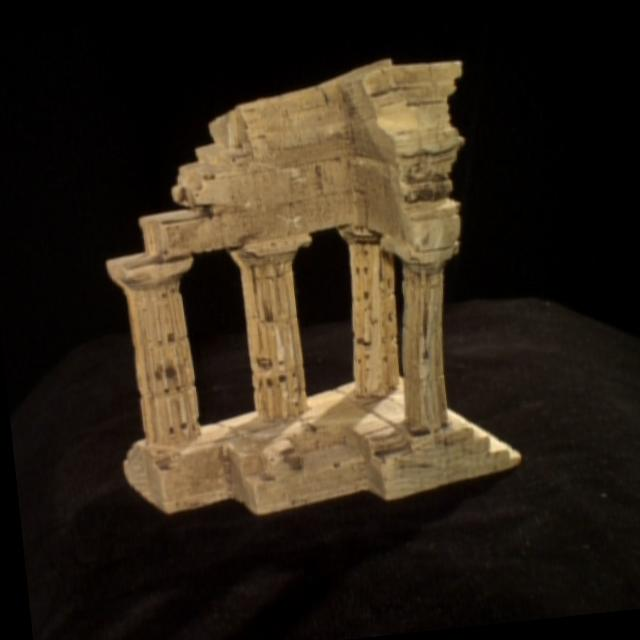Instance-Segmentation: (106, 60, 520, 514)
